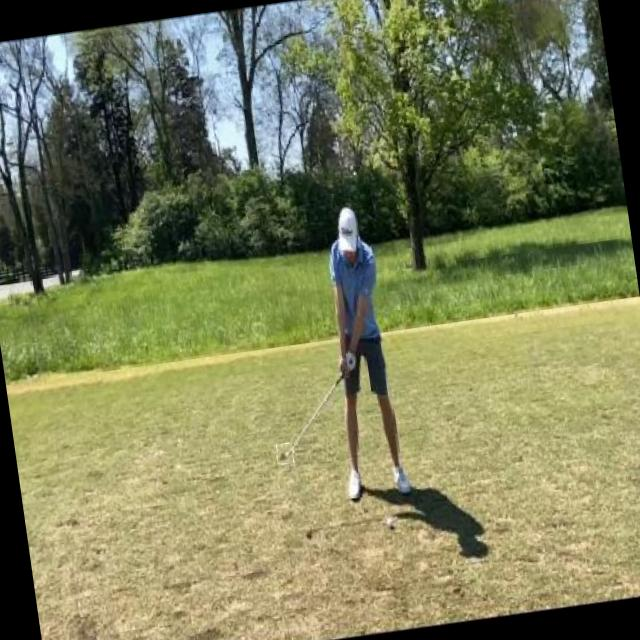club head: (276, 442, 295, 465)
